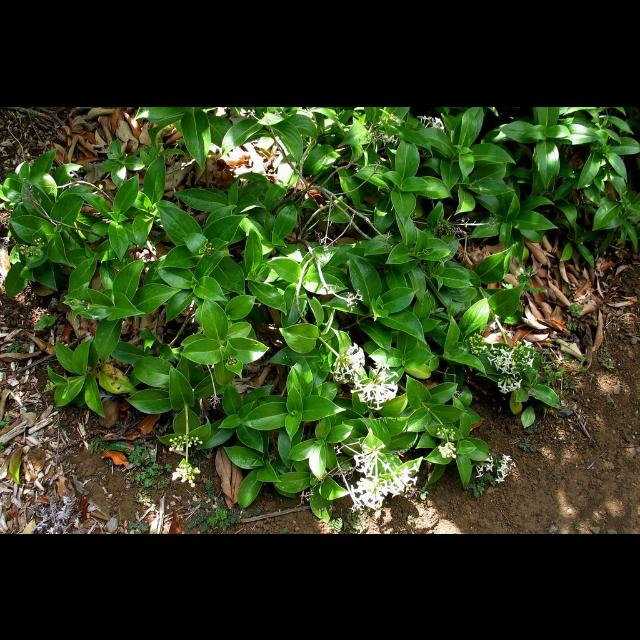Flower: (353, 440, 423, 508), (352, 353, 398, 415), (488, 334, 534, 392), (476, 454, 514, 482), (172, 456, 202, 486), (437, 440, 457, 458)
